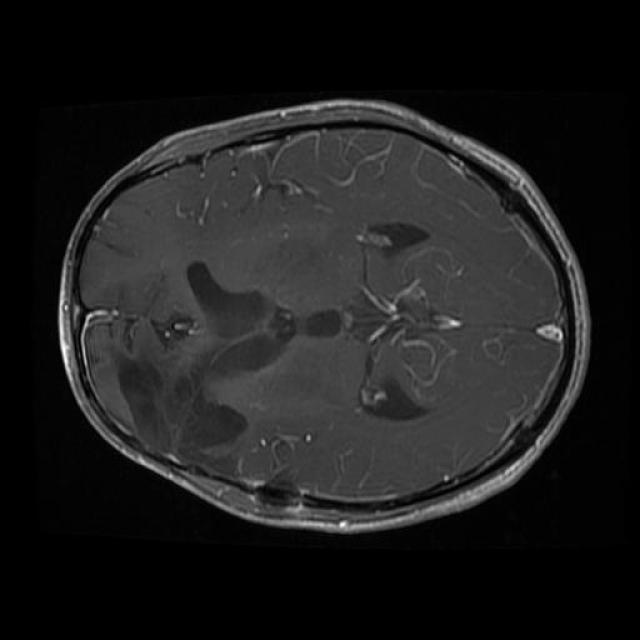Glioma: (115, 340, 246, 455)
